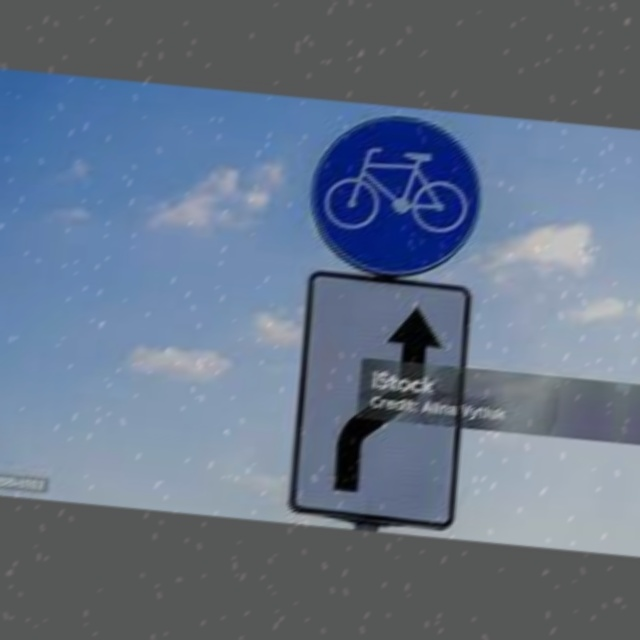Compulsory_Cycle_Track: (303, 110, 491, 281)
